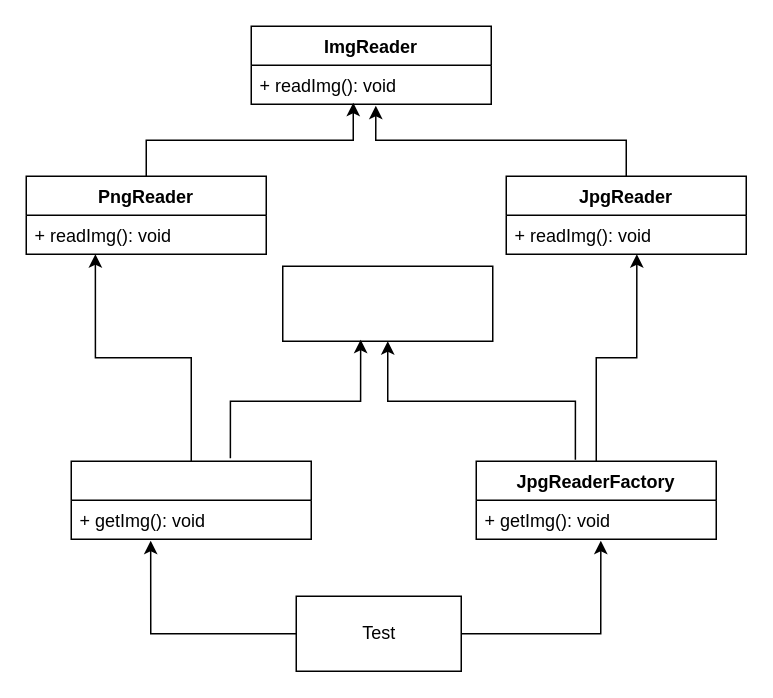
This 773x698 diagram has some shape labels left out. Each missing label, with the box of its shape:
PngReaderFactory: (70, 460, 311, 539)
«interface» ImageReaderFactory: (281, 265, 493, 341)
